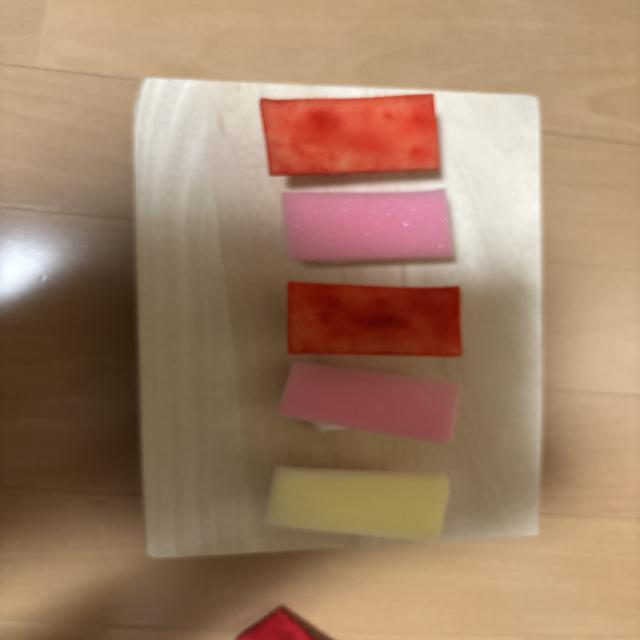salmon: (260, 94, 440, 175), (288, 282, 462, 357)
tai: (279, 363, 460, 443), (283, 190, 453, 262)
tamago: (266, 466, 449, 541)
